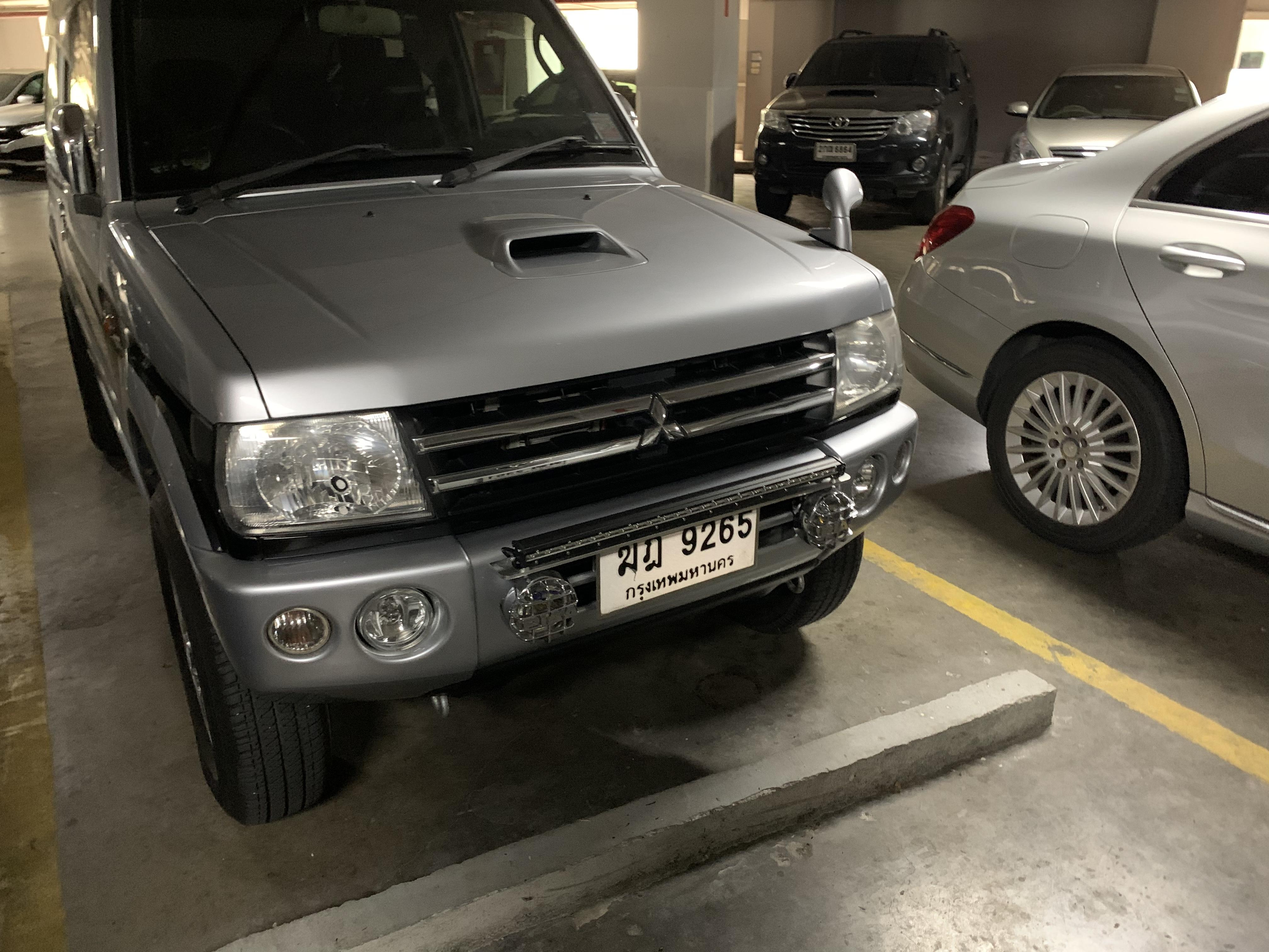license-plate: (589, 490, 772, 624)
